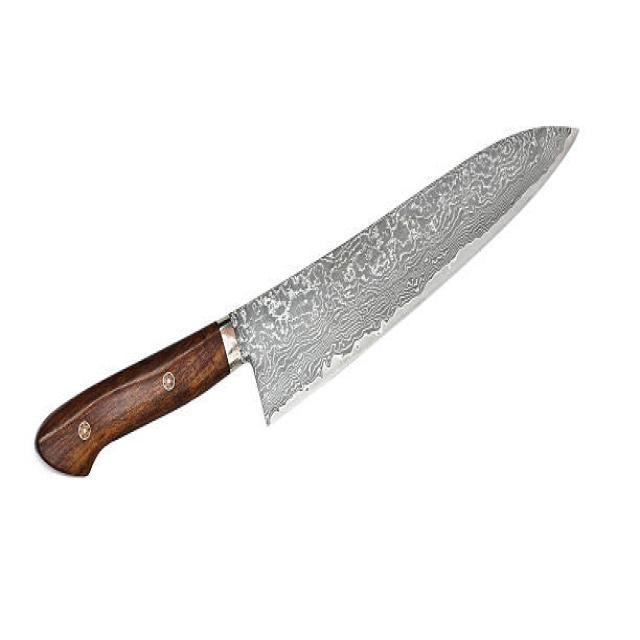knife: (32, 123, 584, 487)
